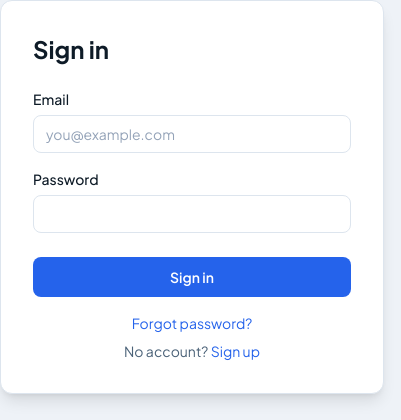
Test: LoginPage — F-14-06: button disabled while submitting › disables the submit button while login is in progress
This screenshot has width=401, height=420.
Type "a@b.com" into the field labelled "Email".
click(192, 134); type("a@b.com")  # box [33,115,351,153]
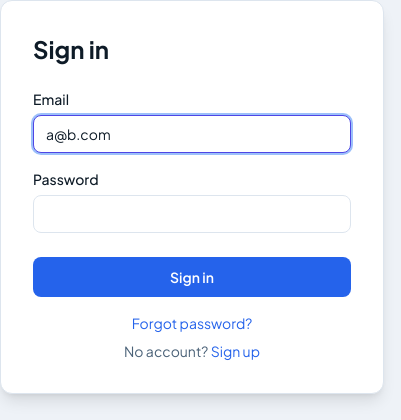
Type "pw" into the password field labelled "Password".
click(192, 214); type("pw")  # box [33,195,351,233]
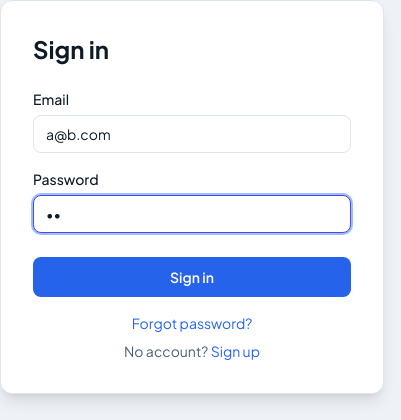
Click the button "Sign in".
click(192, 277)  # box [33,257,351,297]
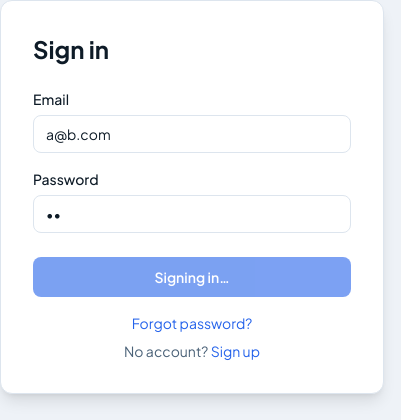
Expected: the button "Signing in…" is disabled, [33,257,351,297]
